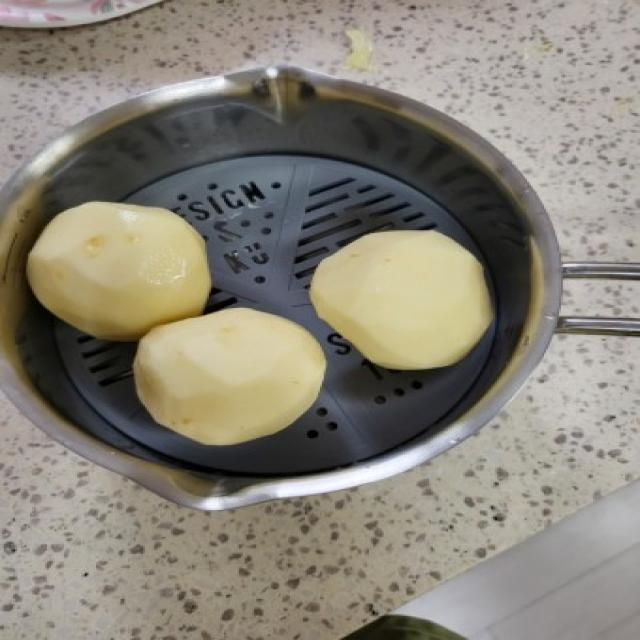potato: (128, 306, 329, 448), (309, 222, 497, 371), (25, 198, 210, 340)
